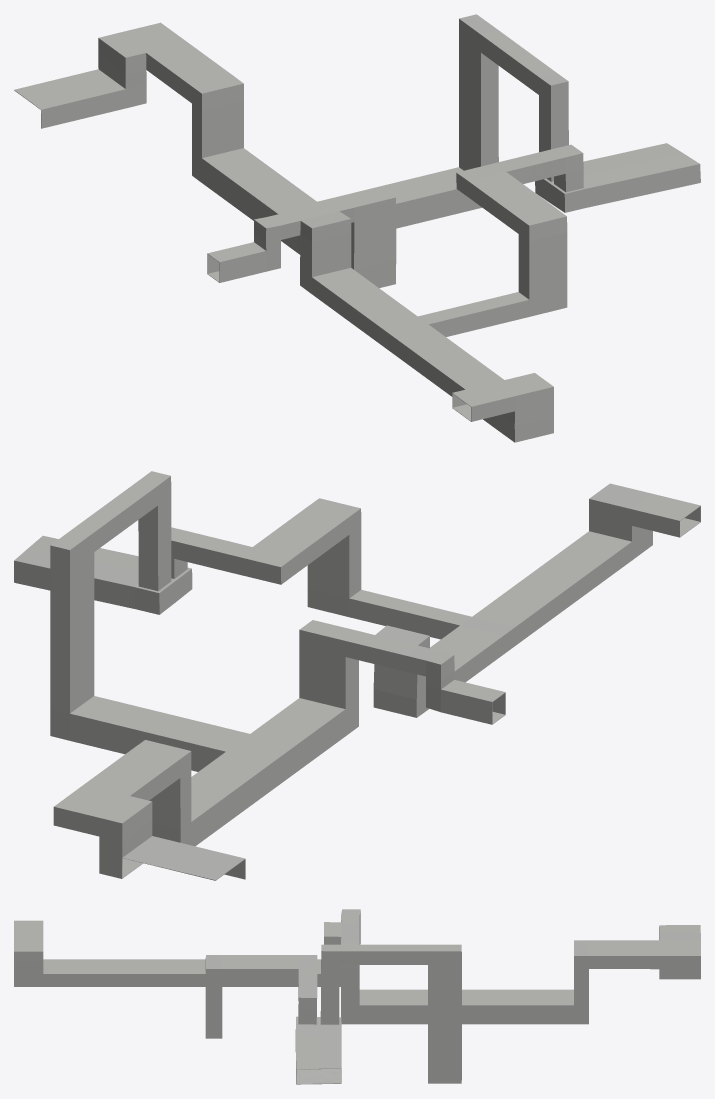
The model's file is level2NewVents.fbx.
The picture shows the model from 3 angles, top to bottom: view 1: azimuth 30°, elevation 25°; view 2: azimuth 150°, elevation 25°; view 3: azimuth 270°, elevation 25°; orthographic projection. The views are drawn at different scales.
Visible parts, largest first — view 1: Level2Vents; view 2: Level2Vents; view 3: Level2Vents.
Part boxes in pixels (bbox=[...]): Level2Vents: bbox=[14, 14, 700, 442]; Level2Vents: bbox=[14, 471, 700, 880]; Level2Vents: bbox=[14, 909, 700, 1084].
Bounding box in the file's own units: 2672 × 982 × 4609.
